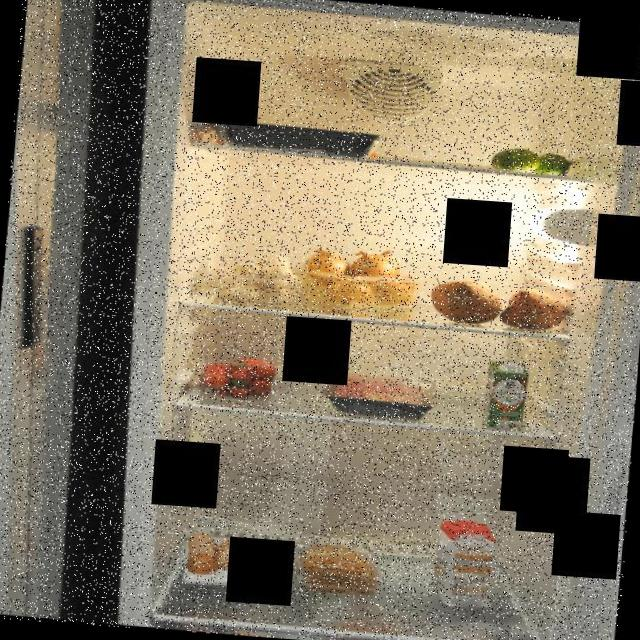Cebolla: (292, 244, 424, 312)
Champiñones: (208, 246, 296, 305)
Huevos: (182, 530, 250, 578)
